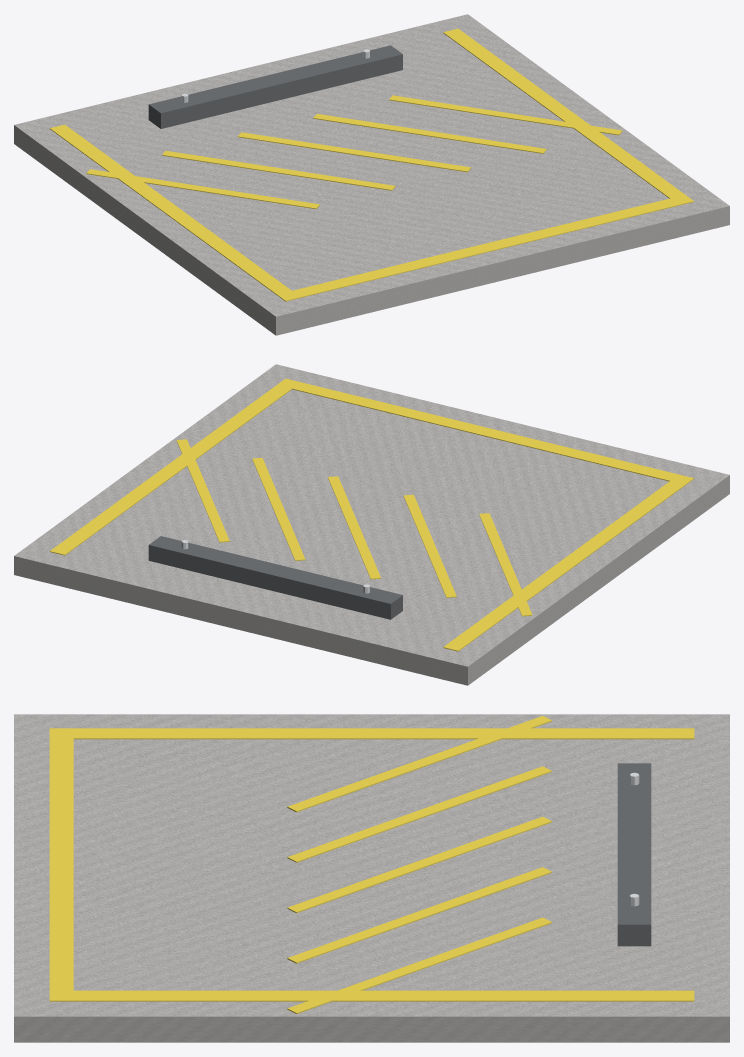
The model's file is tool-hire-depot-and-plant-yard-tool-hire-depot-and-pla-1914780d__35288.glb.
3 views of the same model, one above another, from view 1: azimuth 30°, elevation 25°; view 2: azimuth 150°, elevation 25°; view 3: azimuth 270°, elevation 25° (orthographic). The views are drawn at different scales.
Visible parts, largest first — view 1: tool-hire-depot-and-plant-yard-marked-plant-bay-tile; view 2: tool-hire-depot-and-plant-yard-marked-plant-bay-tile; view 3: tool-hire-depot-and-plant-yard-marked-plant-bay-tile.
Part boxes in pixels (box(x1,y1,x2,y2)): tool-hire-depot-and-plant-yard-marked-plant-bay-tile: box(14, 14, 729, 335); tool-hire-depot-and-plant-yard-marked-plant-bay-tile: box(14, 364, 729, 685); tool-hire-depot-and-plant-yard-marked-plant-bay-tile: box(14, 714, 729, 1042).
Size of the model in its own units: 3 by 0.26 by 3.
4 materials, 1 textured.
